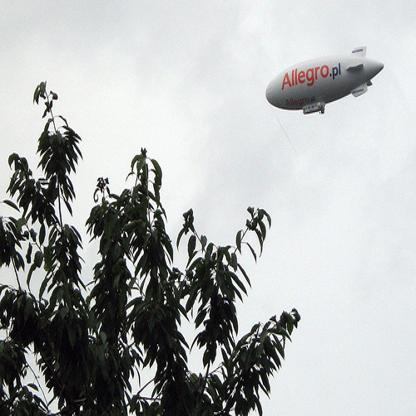Airship: (263, 45, 386, 117)
